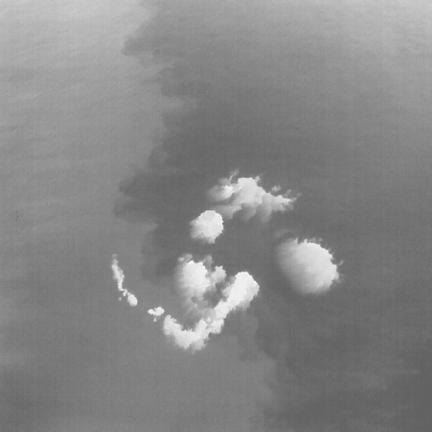flukeprints: (207, 171, 293, 218), (277, 239, 338, 293), (215, 272, 259, 314), (177, 256, 212, 300), (163, 316, 209, 348), (191, 210, 223, 242), (112, 256, 128, 294), (207, 266, 225, 286), (208, 316, 225, 333), (148, 306, 164, 319), (127, 294, 137, 305)
